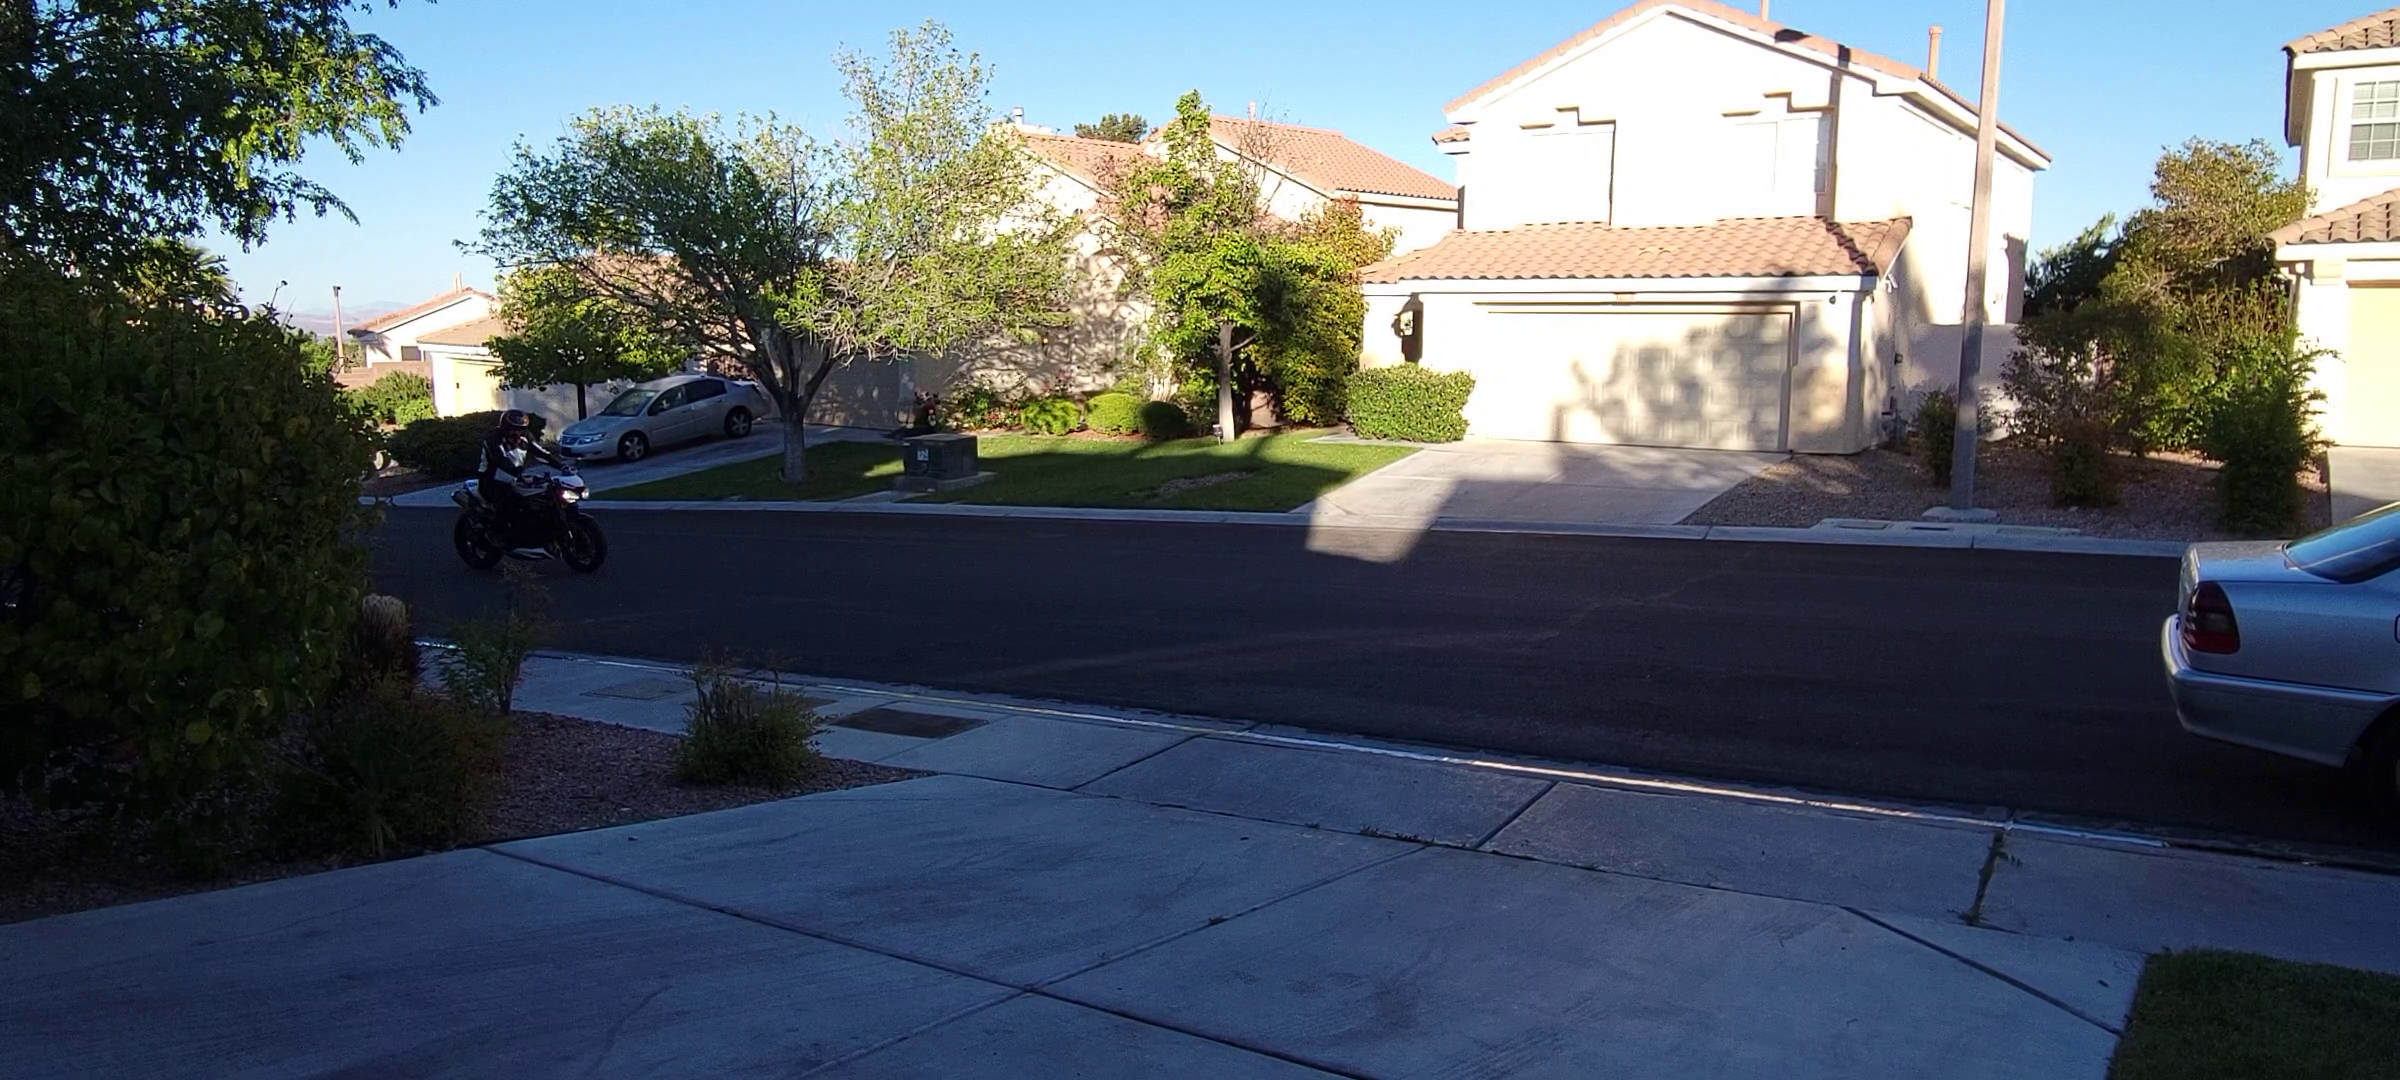other bike: (444, 407, 612, 574)
